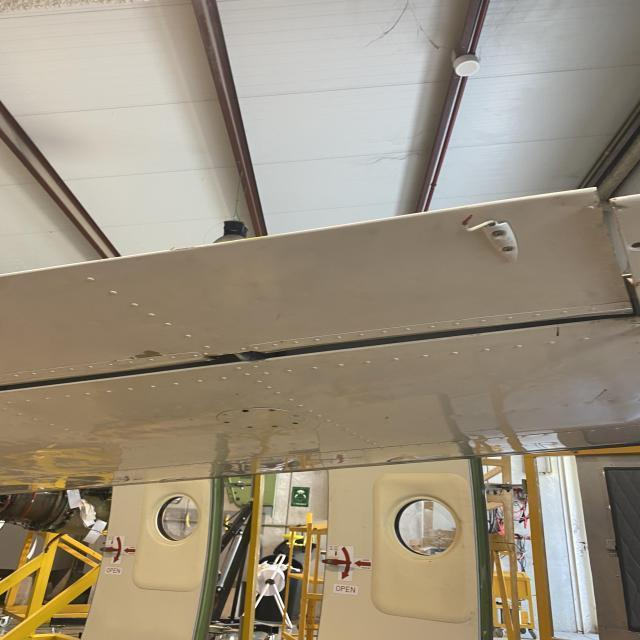Fastener Damage: (242, 408, 250, 414), (292, 421, 300, 426)
